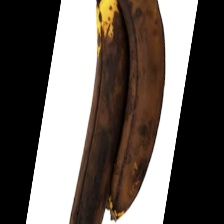banana: (27, 50, 214, 209)
